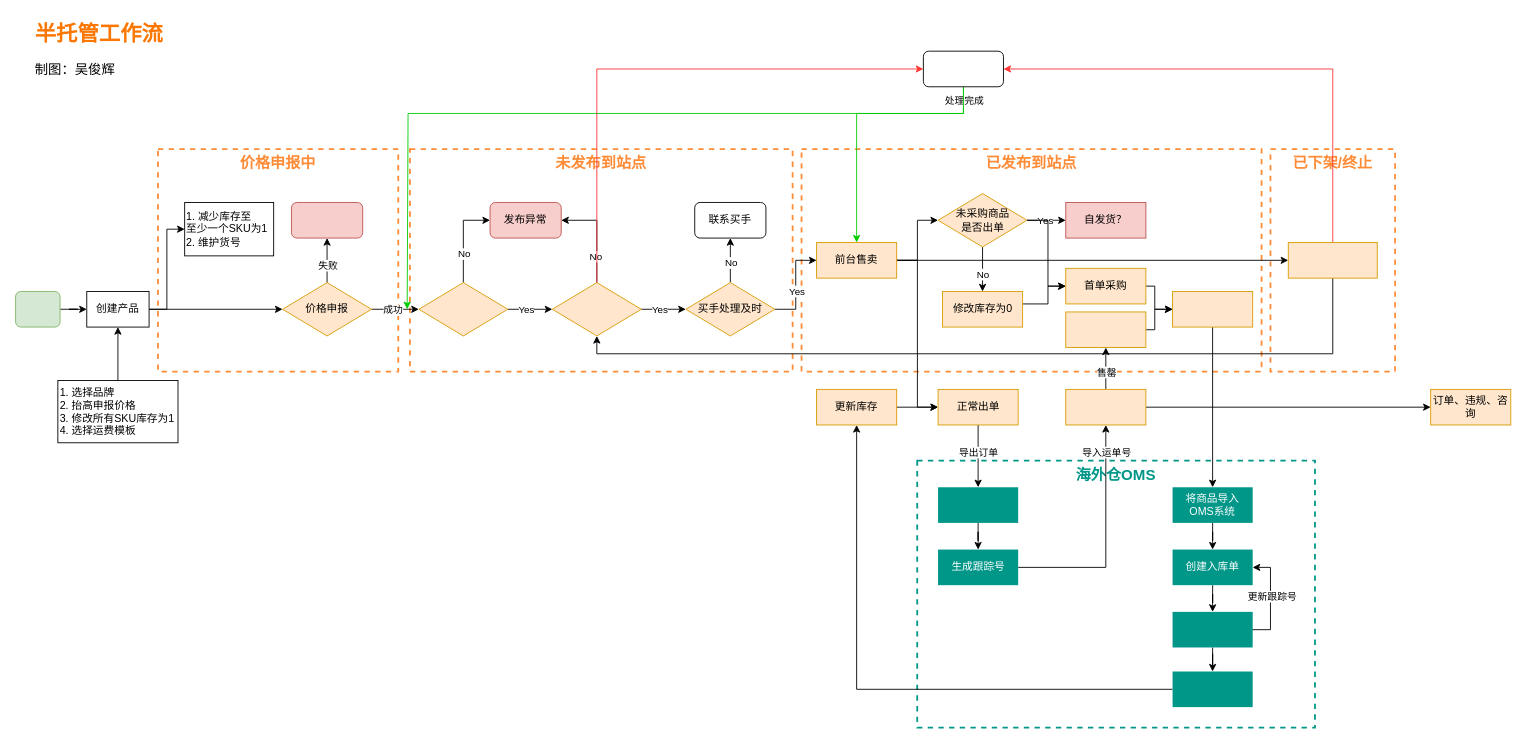
Some shapes in this 1526 by 743 pixel diagram are drawn without their labels. Each missing label, with the centre of its shape:
"TEMU后台发货" goes at [1105,406].
"到货质检打包" goes at [1212,309].
"合规中心" goes at [962,68].
"商品有库存" goes at [463,309].
"商品违规" goes at [1332,260].
"批量创建 仓储订单" goes at [978,504].
"放弃上新" goes at [327,220].
"无违规信息" goes at [596,309].
"海外仓收货 质检上架" goes at [1212,689].
"空运/海运 发往海外仓" goes at [1212,629].
"退回后台 等待 返单采购" goes at [1105,329].
"选品" goes at [37,309].
